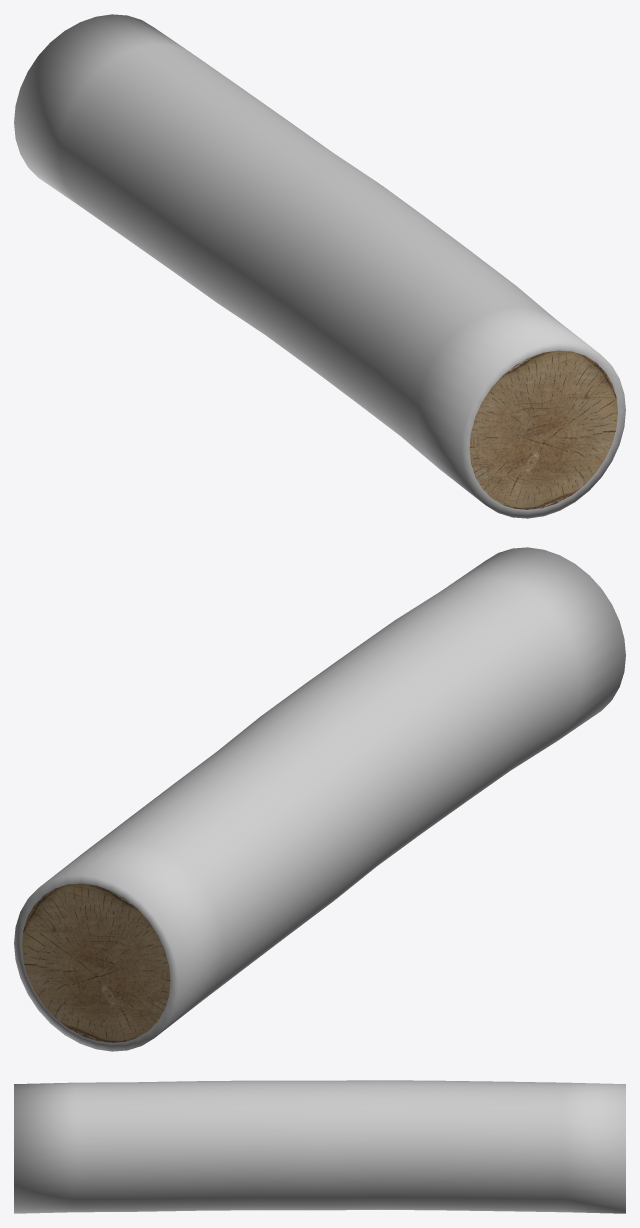
Rendered from wood.fbx.
3 renders of one model, top to bottom at view 1: azimuth 30°, elevation 25°; view 2: azimuth 150°, elevation 25°; view 3: azimuth 270°, elevation 25°, orthographic. The views are drawn at different scales.
Visible parts, largest first — view 1: Cylinder; view 2: Cylinder; view 3: Cylinder.
Part boxes in pixels (<box>): Cylinder: <box>14,14,625,518</box>; Cylinder: <box>14,547,625,1051</box>; Cylinder: <box>14,1080,625,1213</box>.
Size of the model in its own units: 43.12 by 44.01 by 200.
